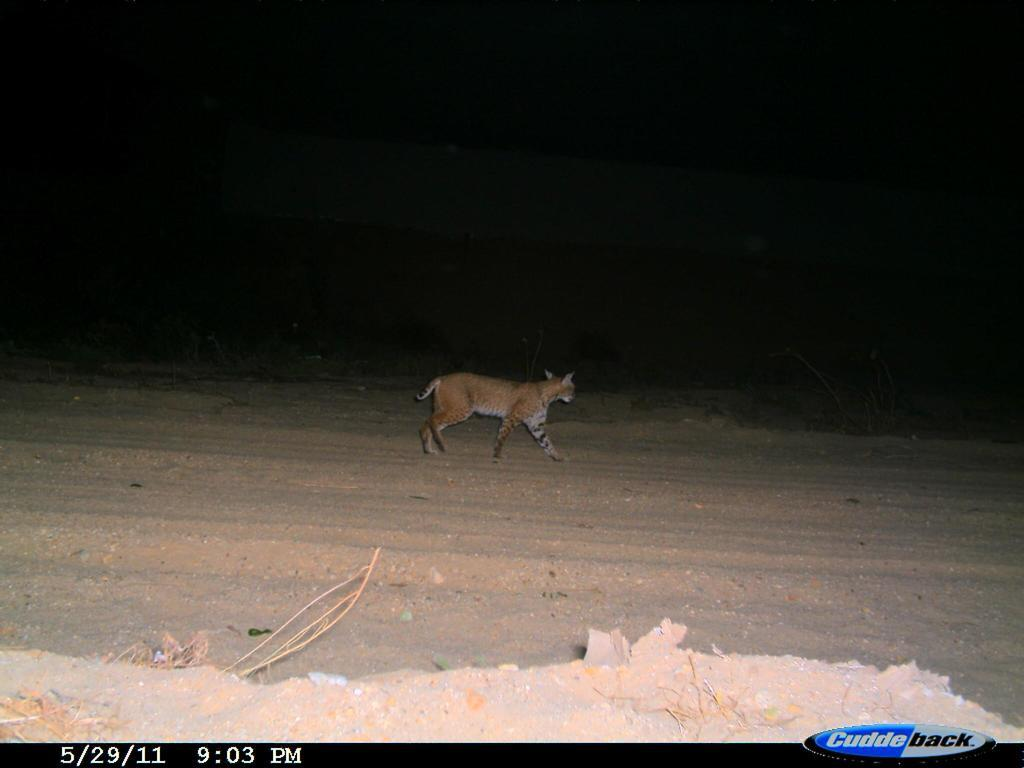bobcat: (405, 356, 593, 470)
